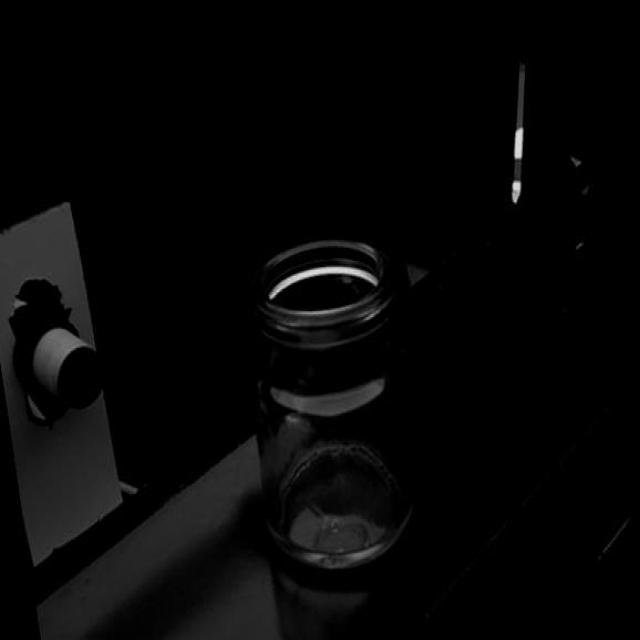glass: (224, 212, 441, 595)
